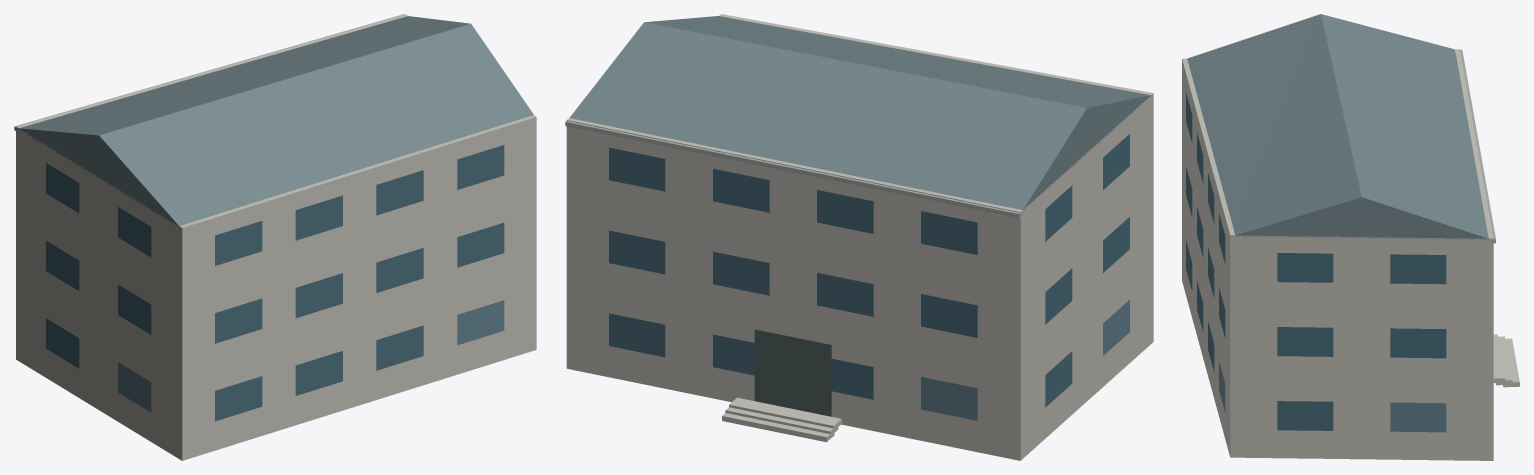
The model's file is 核心区东侧-019.glb.
The picture shows the model from 3 angles, left to right: view 1: azimuth 30°, elevation 25°; view 2: azimuth 150°, elevation 25°; view 3: azimuth 270°, elevation 25°; orthographic projection. The views are drawn at different scales.
Parts seen in each view (by area): view 1: 核心区东侧-019; view 2: 核心区东侧-019; view 3: 核心区东侧-019.
Boxes of the visible parts, x1=… form: 核心区东侧-019: x1=14, y1=14, x2=536, y2=460; 核心区东侧-019: x1=565, y1=14, x2=1153, y2=460; 核心区东侧-019: x1=1182, y1=14, x2=1519, y2=460.
Bounding box in the file's own units: 21.62 × 13.92 × 16.26.
